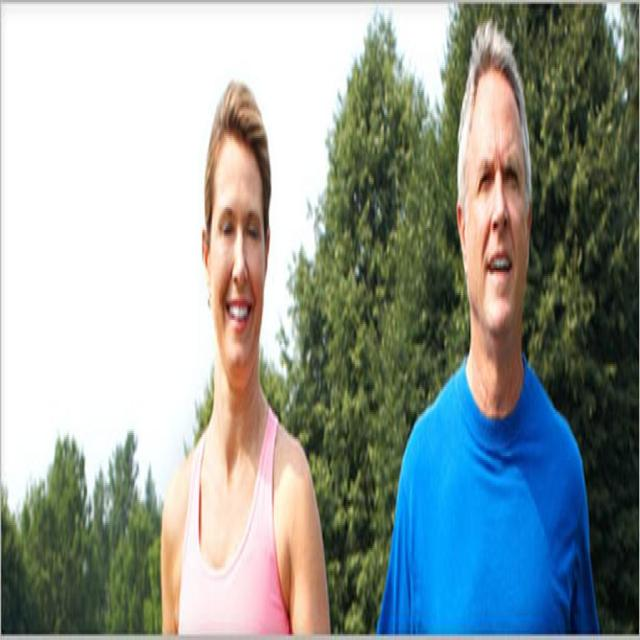Face: (459, 53, 544, 334), (204, 112, 269, 400)
